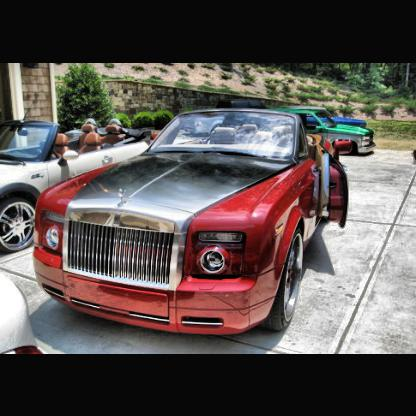Rolls-Royce Phantom Drophead Coupe Convertible 2012: (34, 108, 353, 339)
